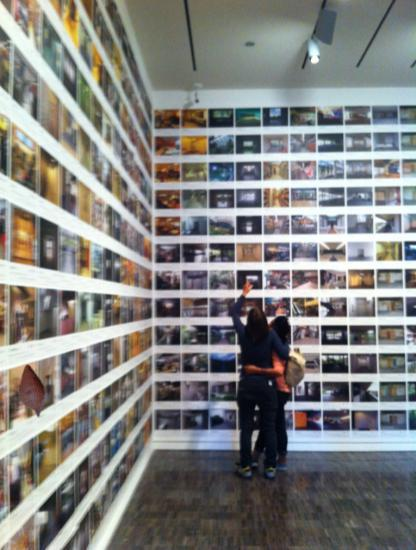Salak: (4, 364, 60, 420)
